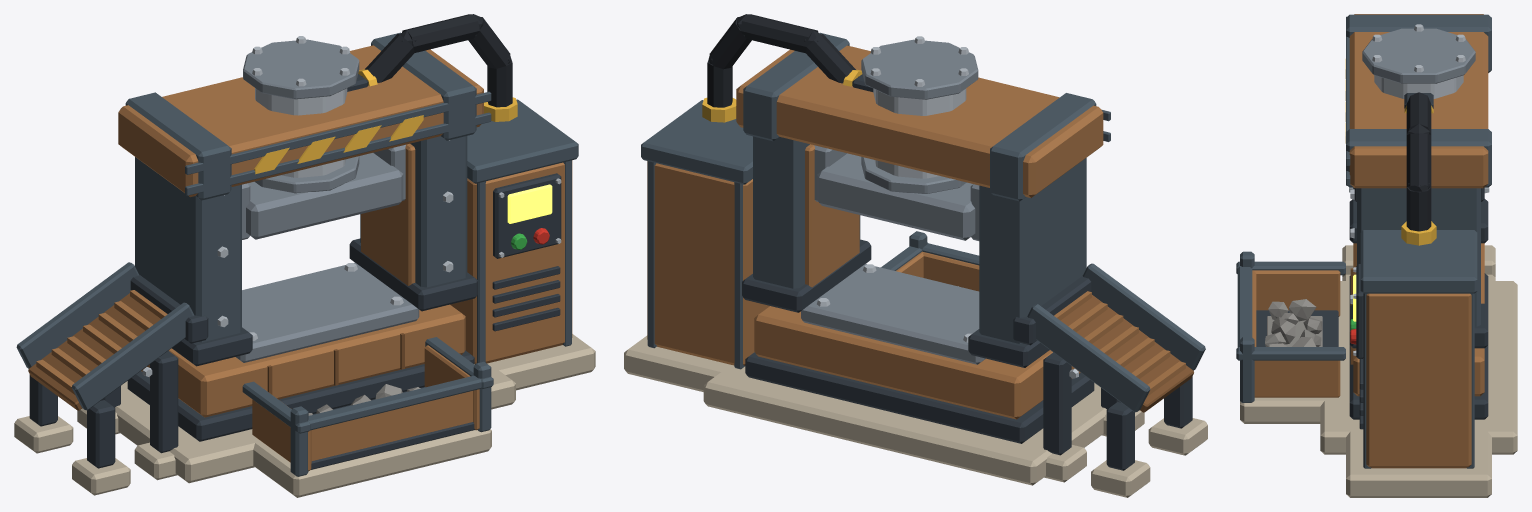
Rendered from Hydraulic_Press.fbx.
3 views of the same model, side by side, from view 1: azimuth 30°, elevation 25°; view 2: azimuth 150°, elevation 25°; view 3: azimuth 270°, elevation 25° (orthographic). The views are drawn at different scales.
Parts seen in each view (by area): view 1: Frame, Wood, FrameDark, Concrete, Steel, Platen, Rubber, WoodDark, SteelLight, Amber, Lamp; view 2: Wood, Frame, Concrete, FrameDark, Steel, Platen, Rubber, WoodDark, SteelLight, Amber; view 3: Wood, Frame, Concrete, FrameDark, Steel, Rubber, Fill.001, SteelLight, Amber.
Boxes of the visible parts, <box> form: Frame: <box>16,32,578,476</box>; Wood: <box>36,45,572,470</box>; FrameDark: <box>29,74,561,469</box>; Concrete: <box>14,334,595,497</box>; Steel: <box>236,39,419,362</box>; Platen: <box>242,144,405,239</box>; Rubber: <box>362,14,512,107</box>; WoodDark: <box>28,293,404,410</box>; SteelLight: <box>142,36,561,376</box>; Amber: <box>254,69,517,174</box>; Lamp: <box>507,184,552,223</box>; Wood: <box>647,45,1185,419</box>; Frame: <box>641,32,1205,412</box>; Concrete: <box>624,335,1207,497</box>; FrameDark: <box>742,74,1192,470</box>; Steel: <box>801,39,985,364</box>; Platen: <box>814,145,979,240</box>; Rubber: <box>707,14,858,107</box>; WoodDark: <box>1060,295,1193,412</box>; SteelLight: <box>817,36,1078,378</box>; Amber: <box>702,69,862,122</box>; Wood: <box>1252,14,1488,468</box>; Frame: <box>1236,14,1491,468</box>; Concrete: <box>1240,245,1517,497</box>; FrameDark: <box>1256,93,1488,429</box>; Steel: <box>1362,28,1475,83</box>; Rubber: <box>1406,92,1431,231</box>; Fill.001: <box>1265,299,1322,346</box>; SteelLight: <box>1349,24,1489,355</box>; Amber: <box>1345,59,1436,245</box>.
Bounding box in the file's own units: 7.76 × 5.07 × 3.85.
